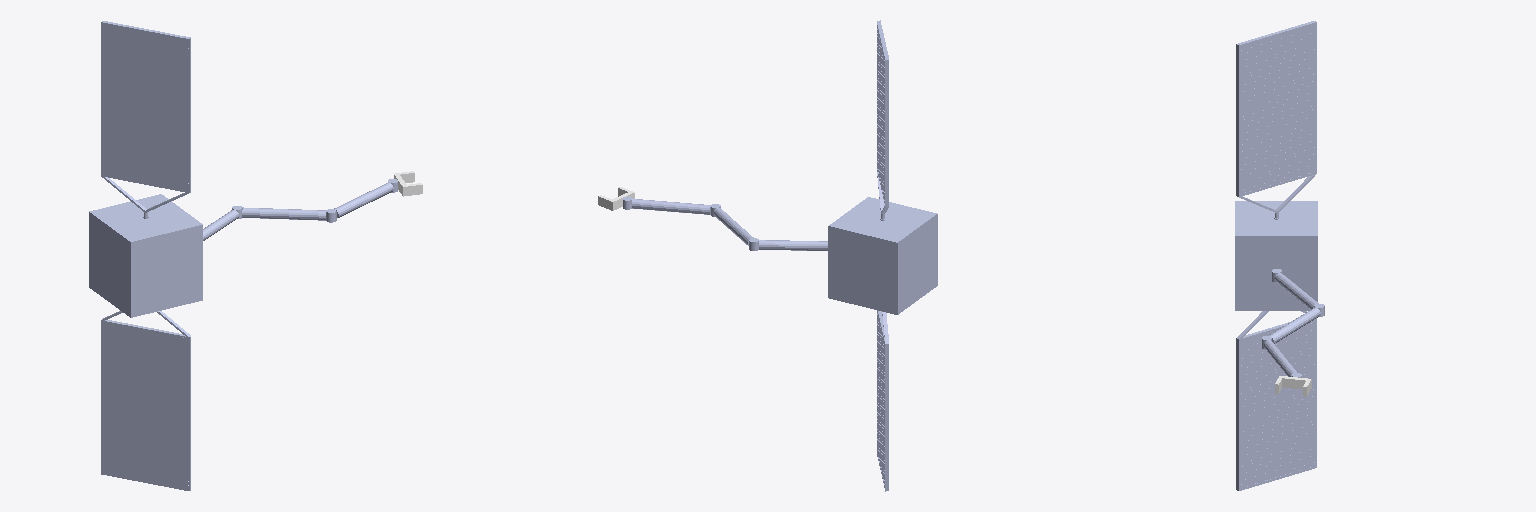
robot.urdf — manipulator:
<?xml version="1.0" encoding="utf-8"?>
<!-- This URDF was automatically created by SolidWorks to URDF Exporter! Originally created by [author] ([email redacted]) 
     Commit Version: 1.6.0-1-g15f4949  Build Version: 1.6.7594.29634
     For more information, please see http://wiki.ros.org/sw_urdf_exporter -->
<robot
  name="manipulator">
  <link
    name="base_link">
    <inertial>
      <origin
        xyz="0.4 0.4 0"
        rpy="0 0 0" />
      <mass
        value="580" />
      <inertia
        ixx="71.085"
        ixy="2.0309"
        ixz="-1.2338E-05"
        iyy="69.68"
        iyz="1.7321E-05"
        izz="58.927" />
    </inertial>
    <visual>
      <origin
        xyz="0 0 0"
        rpy="0 0 0" />
      <geometry>
        <mesh
          filename="package://manipulator/meshes/base_link.STL" />
      </geometry>
      <material
        name="">
        <color
          rgba="0.79216 0.81961 0.93333 1" />
      </material>
    </visual>
    <collision>
      <origin
        xyz="0 0 0"
        rpy="0 0 0" />
      <geometry>
        <mesh
          filename="package://manipulator/meshes/base_link.STL" />
      </geometry>
    </collision>
  </link>
  <link
    name="link1">
    <inertial>
      <origin
        xyz="0.5 0 0"
        rpy="0 0 0" />
      <mass
        value="7" />
      <inertia
        ixx="0.0089994"
        ixy="7.7329E-13"
        ixz="-9.353E-19"
        iyy="0.34018"
        iyz="-9.353E-19"
        izz="0.34001" />
    </inertial>
    <visual>
      <origin
        xyz="0 0 0"
        rpy="0 0 0" />
      <geometry>
        <mesh
          filename="package://manipulator/meshes/link1.STL" />
      </geometry>
      <material
        name="">
        <color
          rgba="0.79216 0.81961 0.93333 1" />
      </material>
    </visual>
    <collision>
      <origin
        xyz="0 0 0"
        rpy="0 0 0" />
      <geometry>
        <mesh
          filename="package://manipulator/meshes/link1.STL" />
      </geometry>
    </collision>
  </link>
  <joint
    name="joint1"
    type="continuous">
    <origin
      xyz="0.85 0.4 0"
      rpy="0 0 0.47901" />
    <parent
      link="base_link" />
    <child
      link="link1" />
    <axis
      xyz="0 0 -1" />
  </joint>
  <link
    name="link2">
    <inertial>
      <origin
        xyz="0.5 -9.4613E-13 2.7756E-17"
        rpy="0 0 0" />
      <mass
        value="7" />
      <inertia
        ixx="0.0089994"
        ixy="7.7329E-13"
        ixz="-9.353E-19"
        iyy="0.34018"
        iyz="-9.5138E-19"
        izz="0.34001" />
    </inertial>
    <visual>
      <origin
        xyz="0 0 0"
        rpy="0 0 0" />
      <geometry>
        <mesh
          filename="package://manipulator/meshes/link2.STL" />
      </geometry>
      <material
        name="">
        <color
          rgba="0.79216 0.81961 0.93333 1" />
      </material>
    </visual>
    <collision>
      <origin
        xyz="0 0 0"
        rpy="0 0 0" />
      <geometry>
        <mesh
          filename="package://manipulator/meshes/link2.STL" />
      </geometry>
    </collision>
  </link>
  <joint
    name="joint2"
    type="continuous">
    <origin
      xyz="0.9 0 0"
      rpy="0 0 -1.0833" />
    <parent
      link="link1" />
    <child
      link="link2" />
    <axis
      xyz="0 0 1" />
  </joint>
  <link
    name="link3">
    <inertial>
      <origin
        xyz="0.5 3.2951E-13 5.5511E-17"
        rpy="0 0 0" />
      <mass
        value="7" />
      <inertia
        ixx="0.0089994"
        ixy="-7.3522E-13"
        ixz="-7.3479E-18"
        iyy="0.34018"
        iyz="3.4735E-19"
        izz="0.34001" />
    </inertial>
    <visual>
      <origin
        xyz="0 0 0"
        rpy="0 0 0" />
      <geometry>
        <mesh
          filename="package://manipulator/meshes/link3.STL" />
      </geometry>
      <material
        name="">
        <color
          rgba="0.79216 0.81961 0.93333 1" />
      </material>
    </visual>
    <collision>
      <origin
        xyz="0 0 0"
        rpy="0 0 0" />
      <geometry>
        <mesh
          filename="package://manipulator/meshes/link3.STL" />
      </geometry>
    </collision>
  </link>
  <joint
    name="joint3"
    type="continuous">
    <origin
      xyz="0.9 0 0"
      rpy="0 0 0.93509" />
    <parent
      link="link2" />
    <child
      link="link3" />
    <axis
      xyz="0 0 -1" />
  </joint>
  <link
    name="end_effector">
    <inertial>
      <origin
        xyz="0.11786 8.0824E-14 -2.7756E-17"
        rpy="0 0 0" />
      <mass
        value="2.8" />
      <inertia
        ixx="0.039667"
        ixy="-3.9031E-18"
        ixz="7.1586E-19"
        iyy="0.011774"
        iyz="-1.2524E-17"
        izz="0.046774" />
    </inertial>
    <visual>
      <origin
        xyz="0 0 0"
        rpy="0 0 0" />
      <geometry>
        <mesh
          filename="package://manipulator/meshes/end_effector.STL" />
      </geometry>
      <material
        name="">
        <color
          rgba="1 1 1 1" />
      </material>
    </visual>
    <collision>
      <origin
        xyz="0 0 0"
        rpy="0 0 0" />
      <geometry>
        <mesh
          filename="package://manipulator/meshes/end_effector.STL" />
      </geometry>
    </collision>
  </link>
  <joint
    name="joint4"
    type="continuous">
    <origin
      xyz="0.9 0 0"
      rpy="0 0 -0.56721" />
    <parent
      link="link3" />
    <child
      link="end_effector" />
    <axis
      xyz="0 0 -1" />
  </joint>
</robot>

--- Render facts (derived) ---
3 views of the same robot in one strip: view 1: azimuth 30°, elevation 25°; view 2: azimuth 150°, elevation 25°; view 3: azimuth 270°, elevation 25° (orthographic).
Model manipulator with 5 links and 4 joints (4 continuous), rooted at base_link, posed all joints at 0.
Links seen in each view (by area): view 1: base_link, link2, link3; view 2: base_link, link3, link1, link2; view 3: base_link, link2, link1.
Link boxes in pixels (x1=…): base_link: x1=89, y1=21, x2=202, y2=490; link2: x1=242, y1=207, x2=336, y2=222; link3: x1=334, y1=179, x2=397, y2=217; base_link: x1=828, y1=20, x2=937, y2=491; link3: x1=623, y1=197, x2=710, y2=214; link1: x1=749, y1=238, x2=827, y2=250; link2: x1=711, y1=204, x2=753, y2=245; base_link: x1=1235, y1=21, x2=1317, y2=490; link2: x1=1262, y1=307, x2=1320, y2=349; link1: x1=1274, y1=273, x2=1324, y2=316.
Size in the robot's own frame: 3.52 by 0.8647 by 4.77 metres.
Meshes: 5 distinct files referenced, 5 mesh visuals loaded (5 binary STL).